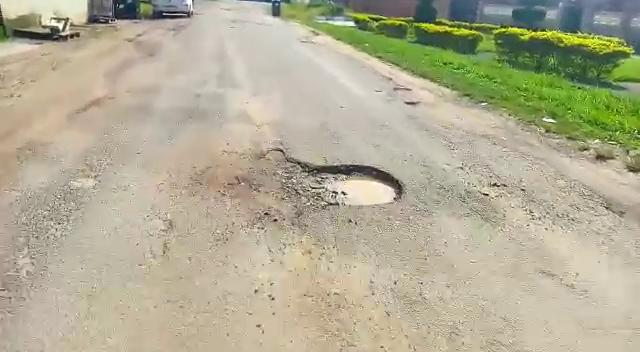pothole: (243, 146, 412, 215)
